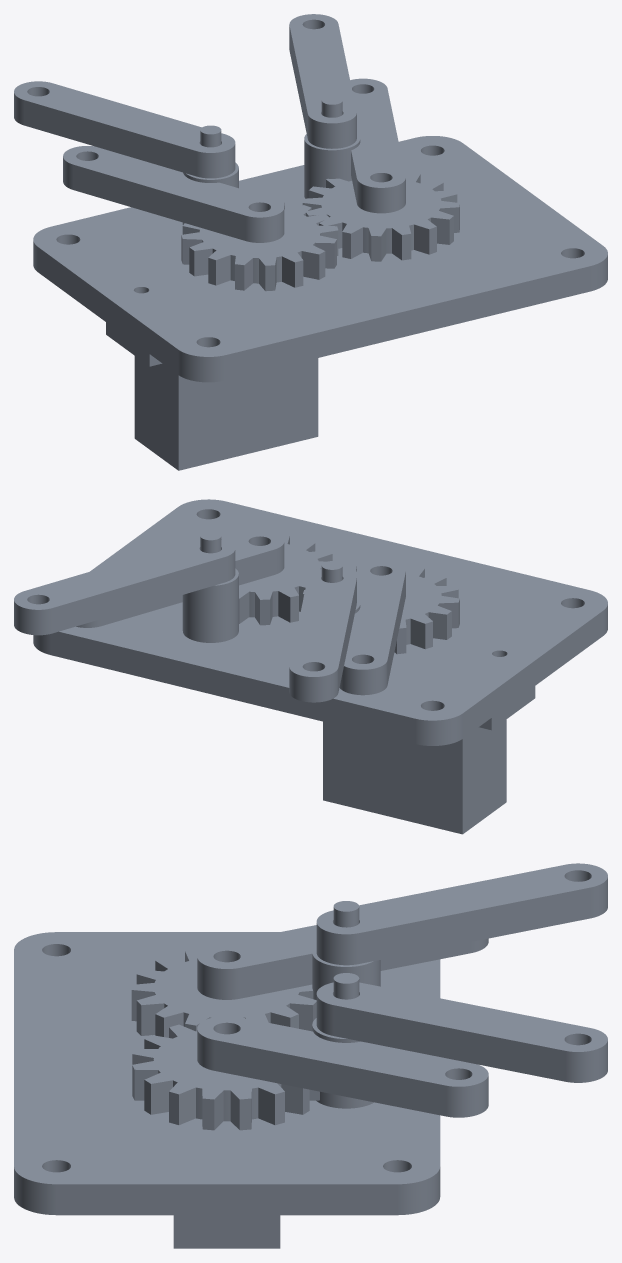
File: step-4-preview-2.glb
3 views of the same model, one above another, from view 1: azimuth 30°, elevation 25°; view 2: azimuth 150°, elevation 25°; view 3: azimuth 270°, elevation 25° (orthographic). The views are drawn at different scales.
Parts seen in each view (by area): view 1: preview_4, preview_26, preview_8, preview_45, preview_200, preview_208, preview_184, preview_194, preview_202, preview_192, preview_38, preview_5 (+6 smaller); view 2: preview_4, preview_28, preview_9, preview_184, preview_200, preview_178, preview_45, preview_208, preview_38, preview_5, preview_19, preview_186 (+8 smaller); view 3: preview_4, preview_12, preview_45, preview_179, preview_187, preview_195, preview_184, preview_200, preview_192, preview_36, preview_203, preview_208 (+15 smaller).
Boxes of the visible parts, bbox=[...] form: preview_4: bbox=[33, 136, 607, 356]; preview_26: bbox=[149, 354, 318, 470]; preview_8: bbox=[226, 266, 590, 380]; preview_45: bbox=[181, 172, 459, 265]; preview_200: bbox=[14, 81, 235, 152]; preview_208: bbox=[63, 146, 284, 217]; preview_184: bbox=[289, 14, 356, 123]; preview_194: bbox=[24, 100, 196, 176]; preview_202: bbox=[73, 165, 245, 240]; preview_192: bbox=[350, 78, 405, 187]; preview_38: bbox=[134, 356, 178, 470]; preview_5: bbox=[38, 247, 178, 374]; preview_4: bbox=[59, 499, 607, 720]; preview_28: bbox=[323, 718, 491, 834]; preview_9: bbox=[51, 631, 415, 743]; preview_184: bbox=[14, 539, 235, 609]; preview_200: bbox=[289, 569, 356, 676]; preview_178: bbox=[52, 557, 224, 633]; preview_45: bbox=[221, 534, 459, 628]; preview_208: bbox=[344, 560, 405, 669]; preview_38: bbox=[462, 719, 506, 833]; preview_5: bbox=[463, 611, 603, 738]; preview_19: bbox=[182, 574, 238, 642]; preview_186: bbox=[101, 550, 273, 625]; preview_4: bbox=[14, 932, 440, 1184]; preview_12: bbox=[56, 1184, 397, 1215]; preview_45: bbox=[131, 949, 316, 1099]; preview_179: bbox=[333, 1005, 565, 1081]; preview_187: bbox=[214, 1040, 446, 1116]; preview_195: bbox=[359, 887, 590, 963]; preview_184: bbox=[316, 982, 607, 1051]; preview_200: bbox=[316, 863, 607, 934]; preview_192: bbox=[197, 1016, 488, 1086]; preview_36: bbox=[173, 1215, 280, 1248]; preview_203: bbox=[239, 942, 471, 998]; preview_208: bbox=[197, 925, 316, 968].
Size of the model in its own units: 0.07 by 0.0415 by 0.0697.
